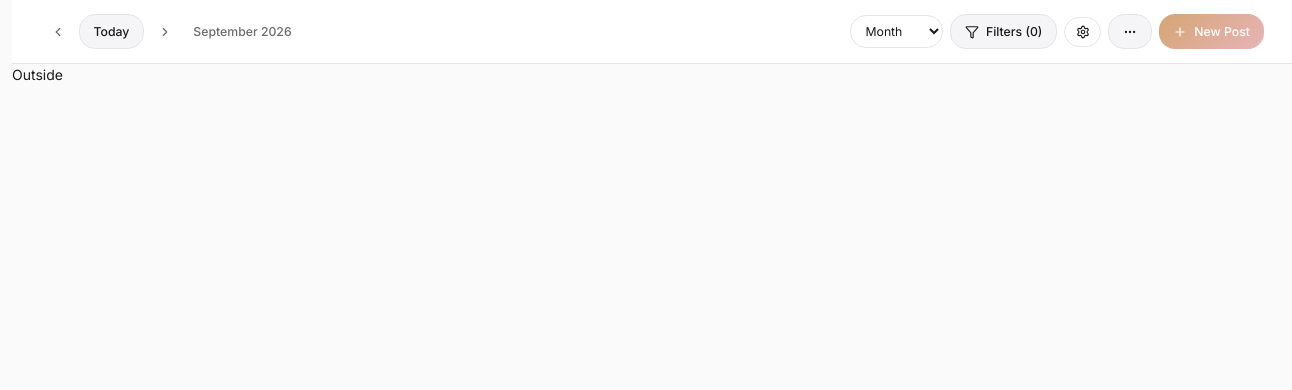
it: CalendarToolbar filters › shows Remind to Post when a manual account exists
The width and height of the screenshot is (1292, 390).
Click the button "Filters (0)" at (1004, 32), box [950,14,1057,49]
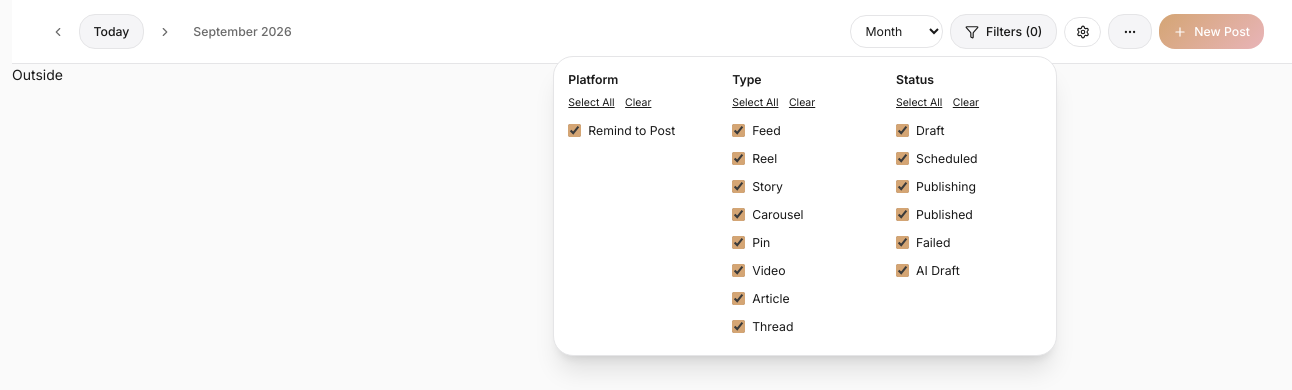
Expected: the checkbox labelled "Remind to Post" is shown, [568,124,581,137]
